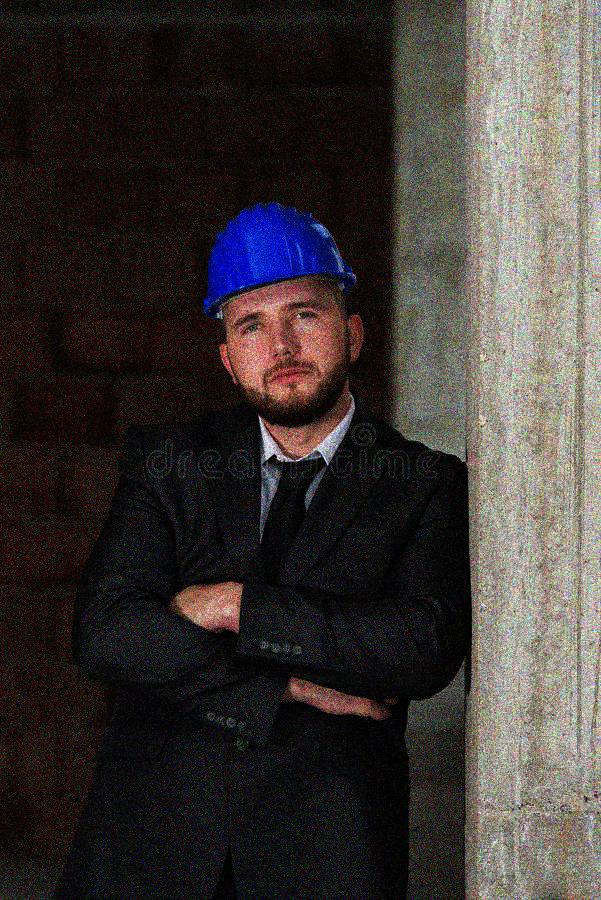helmet: (203, 203, 365, 423)
